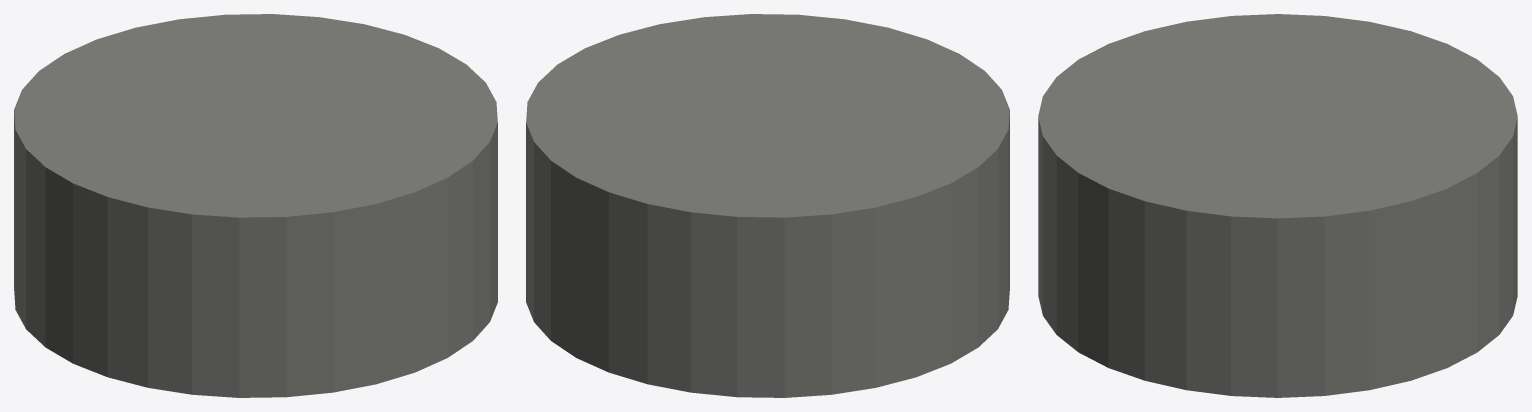
Rendered from Reactor1.fbx.
The picture shows the model from 3 angles, left to right: view 1: azimuth 30°, elevation 25°; view 2: azimuth 150°, elevation 25°; view 3: azimuth 270°, elevation 25°; orthographic projection.
Parts seen in each view (by area): view 1: Reactor1; view 2: Reactor1; view 3: Reactor1.
Part boxes in pixels (x1,y1,x2,y2): Reactor1: [14, 14, 497, 397]; Reactor1: [526, 14, 1009, 397]; Reactor1: [1038, 14, 1517, 397].
Bounding box in the file's own units: 31.3 × 12.82 × 31.02.
